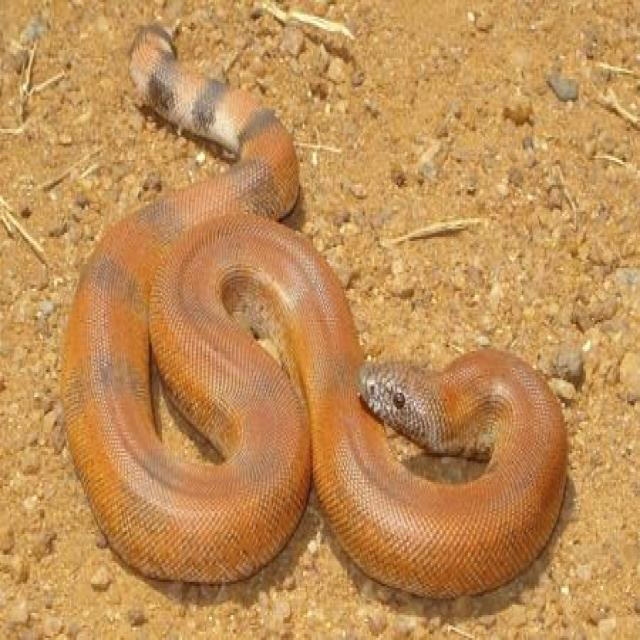Snake: (59, 12, 568, 600)
